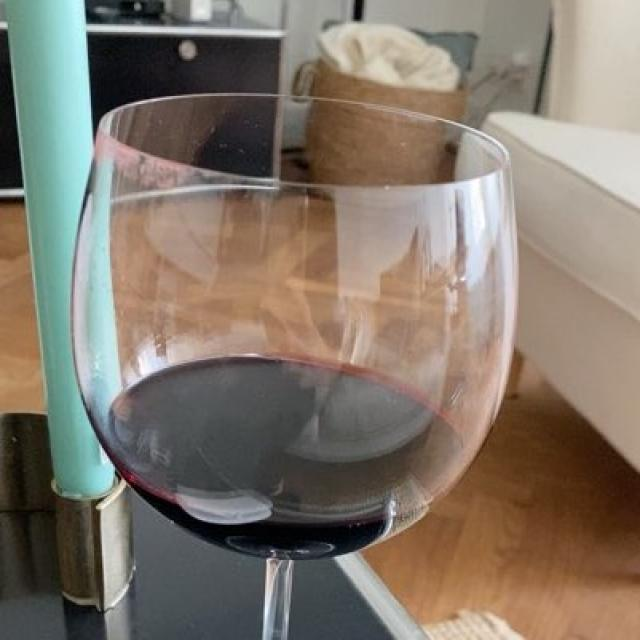wine: (126, 355, 471, 551)
